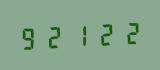nine: (18, 23, 42, 51)
one: (68, 20, 92, 49)
two: (43, 21, 67, 50), (93, 19, 117, 48), (118, 18, 142, 46)
